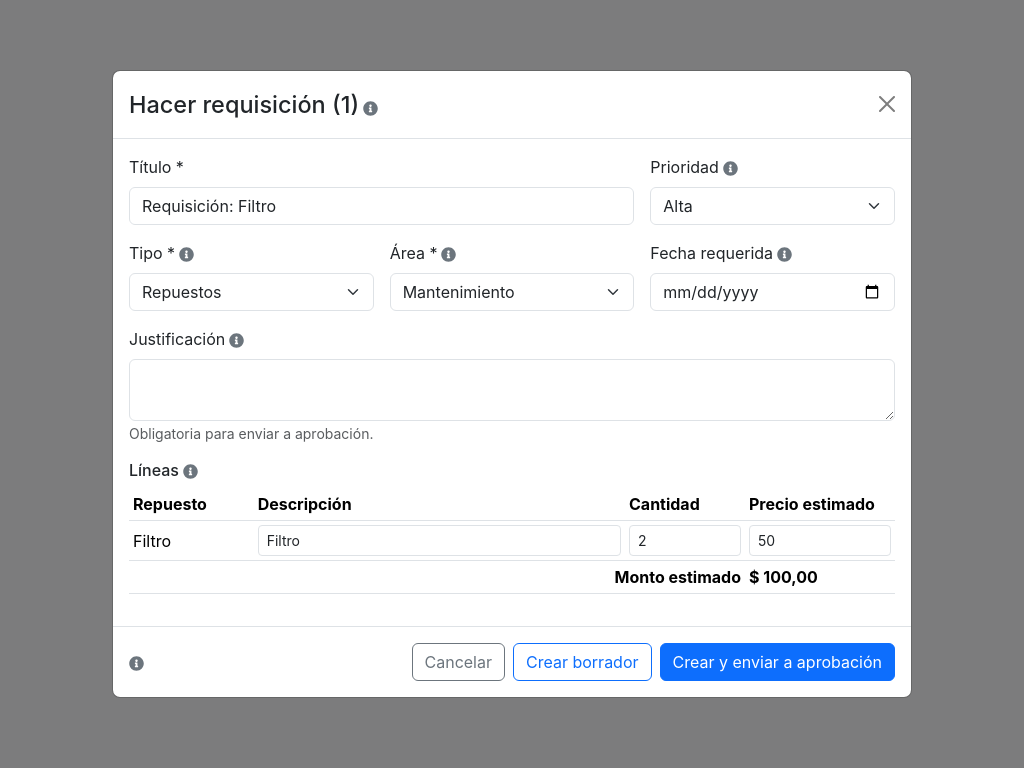
Test: HacerRequisicionModal › validates the lines inline (quantity and description)
Replace the text in the number field named "Cantidad de Filtro" with "0". click: (685, 541)
box: 629,525 -> 741,556
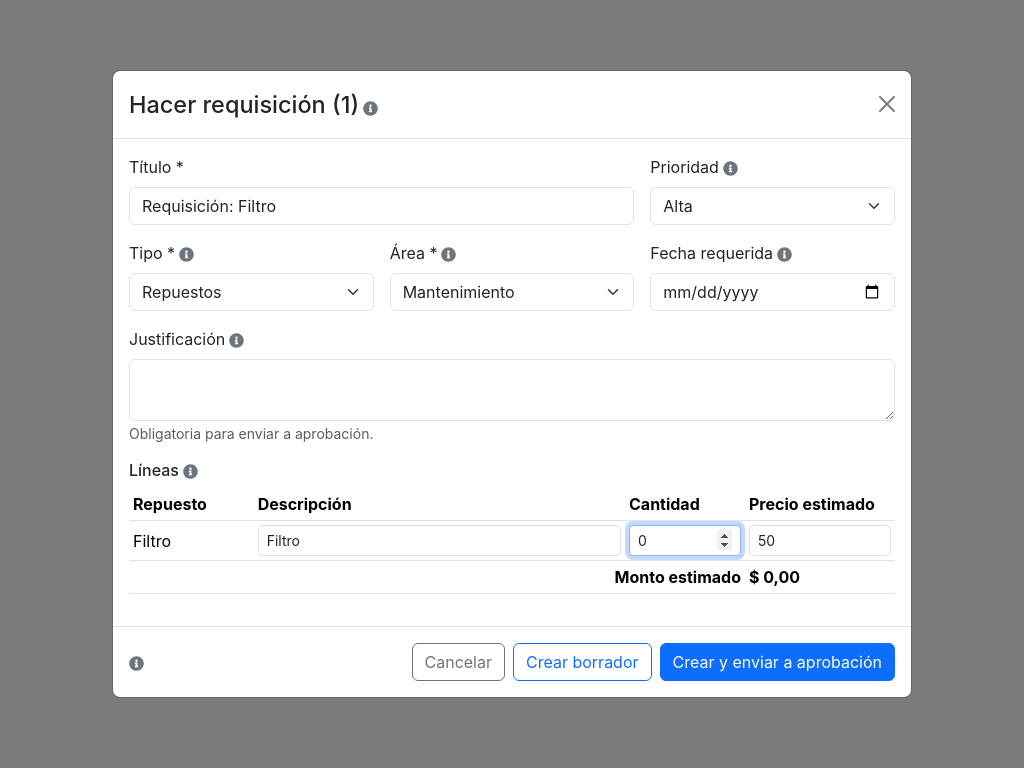
Clear the field named "Descripción de Filtro". click: (439, 541)
box: 258,525 -> 621,556
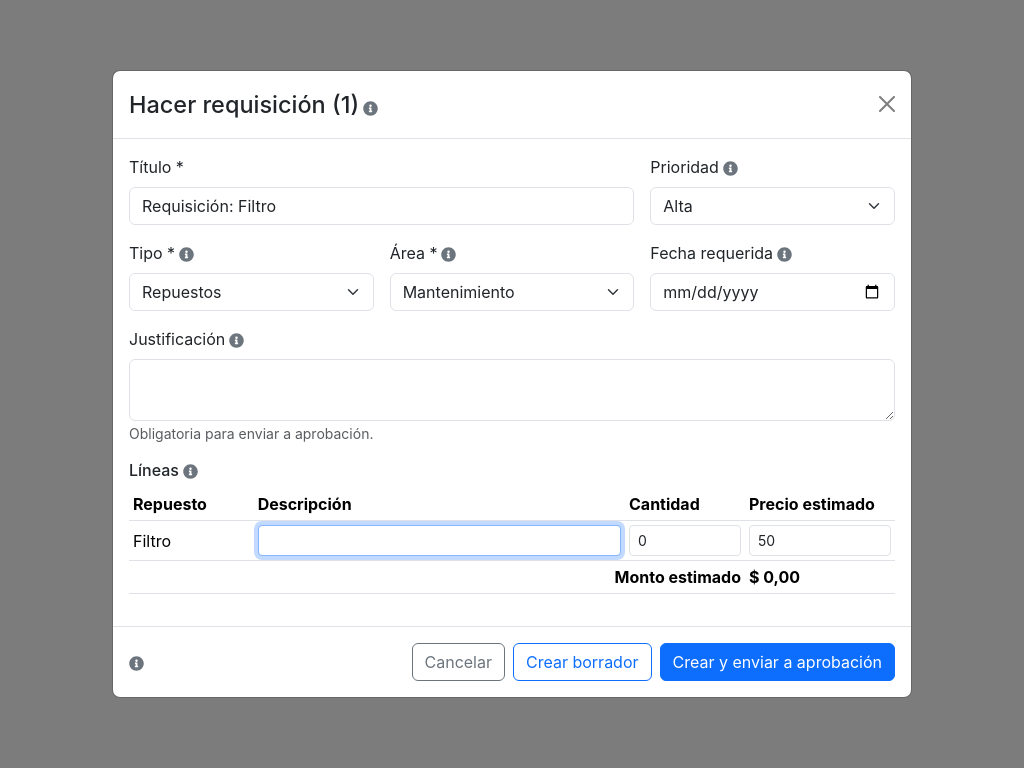
Click the button "Crear borrador". click: (582, 662)
box: 513,643 -> 652,681
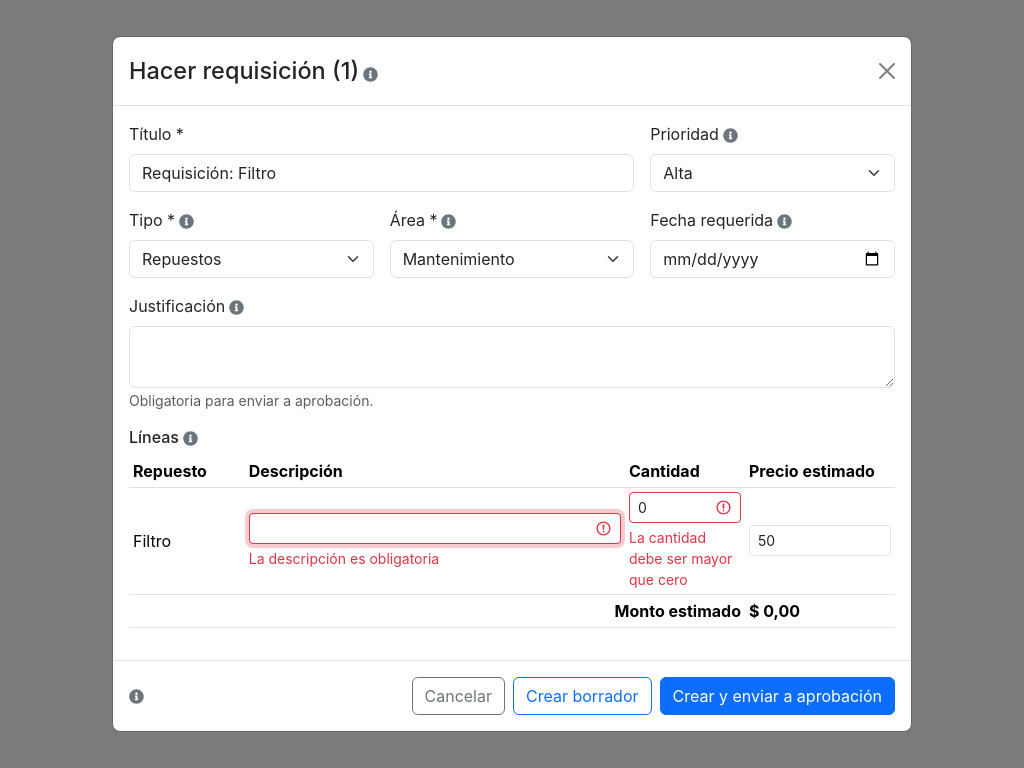
Check: the text "La cantidad debe ser mayor que cero" is shown, box 629,527 -> 741,590
Check: the text "La descripción es obligatoria" is shown, box 249,550 -> 439,567
